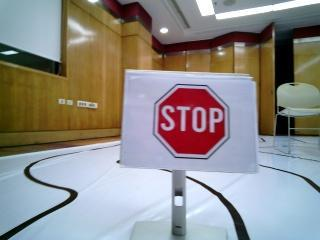stop: (127, 72, 253, 172)
